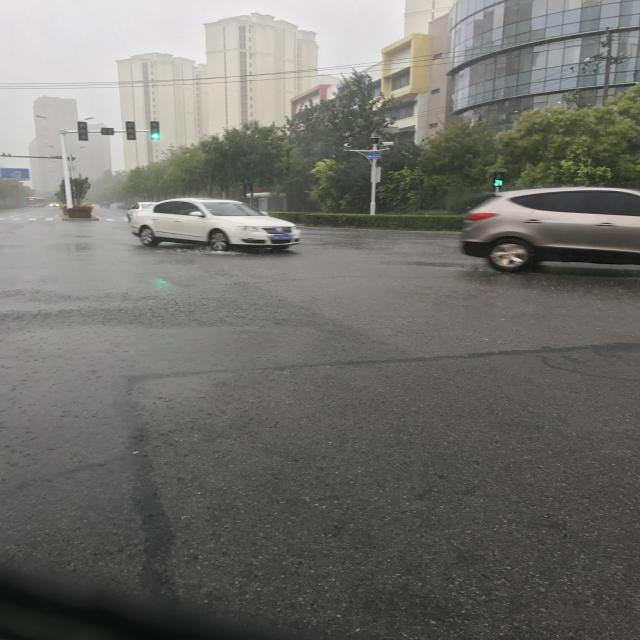car: (186, 0, 272, 180), (198, 341, 251, 514)
